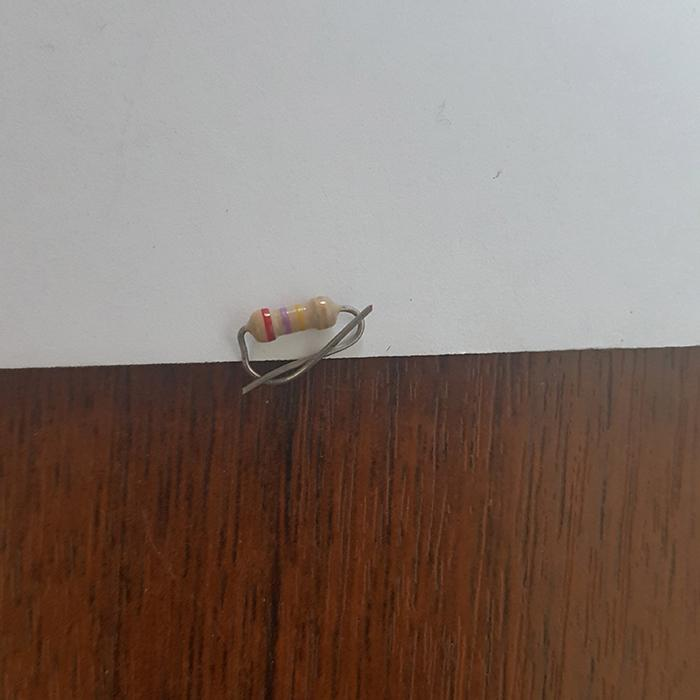resistor: (244, 296, 342, 343)
